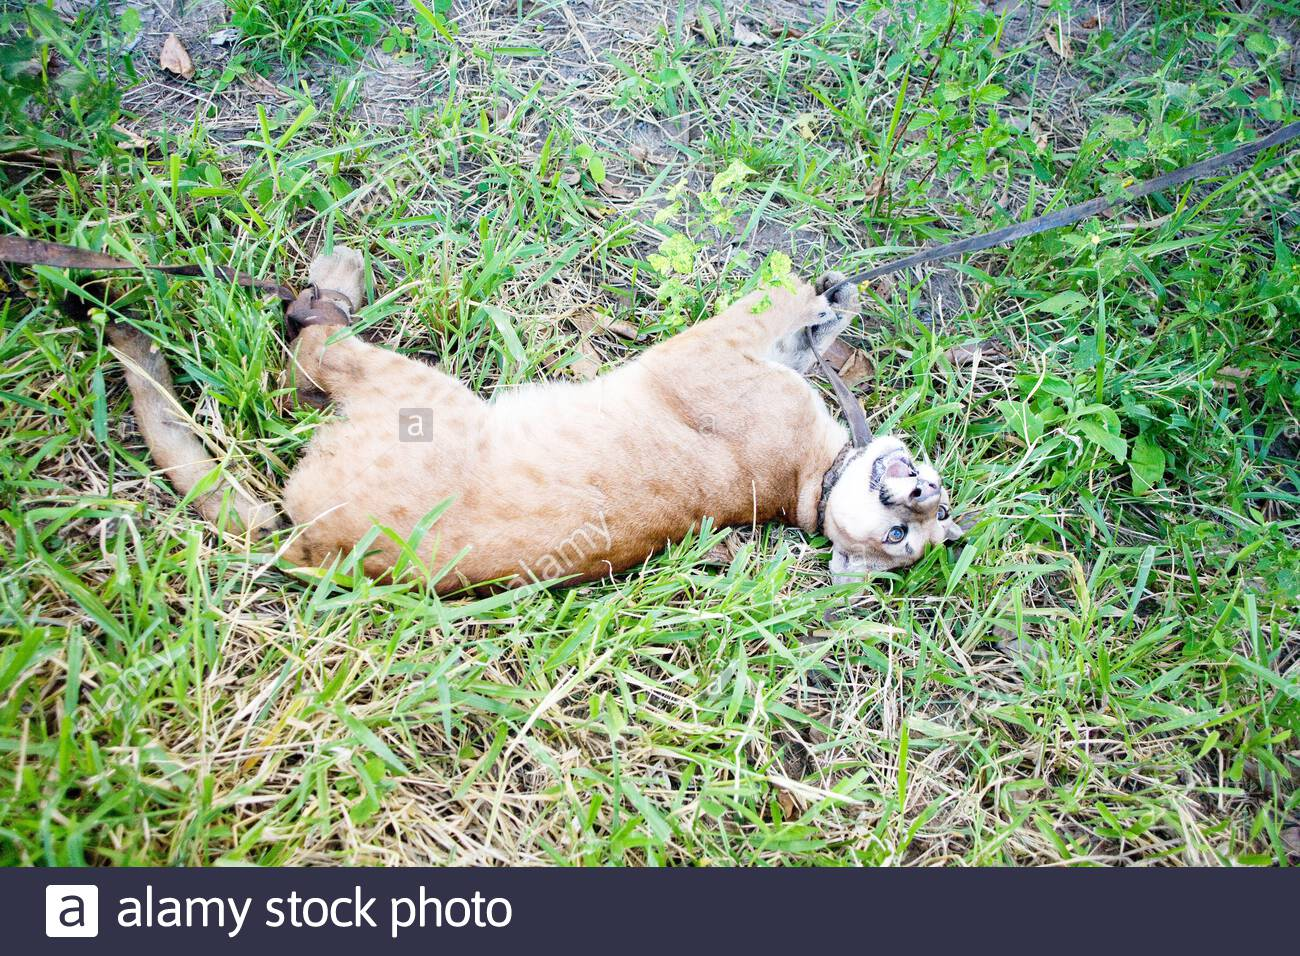OncaParda: (146, 238, 987, 637)
